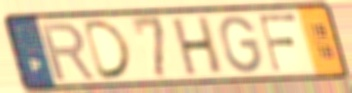7: (128, 13, 167, 81)
D: (81, 18, 136, 82)
F: (257, 12, 299, 74)
G: (218, 14, 265, 76)
H: (171, 14, 225, 78)
R: (37, 21, 98, 83)
